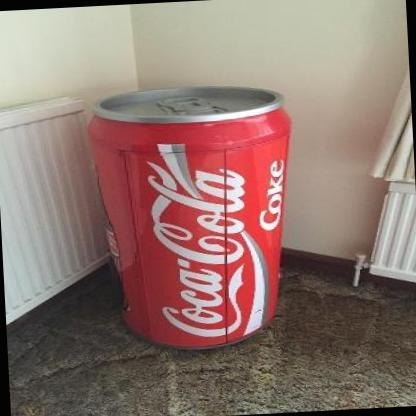alumunium_can: (84, 78, 304, 354)
